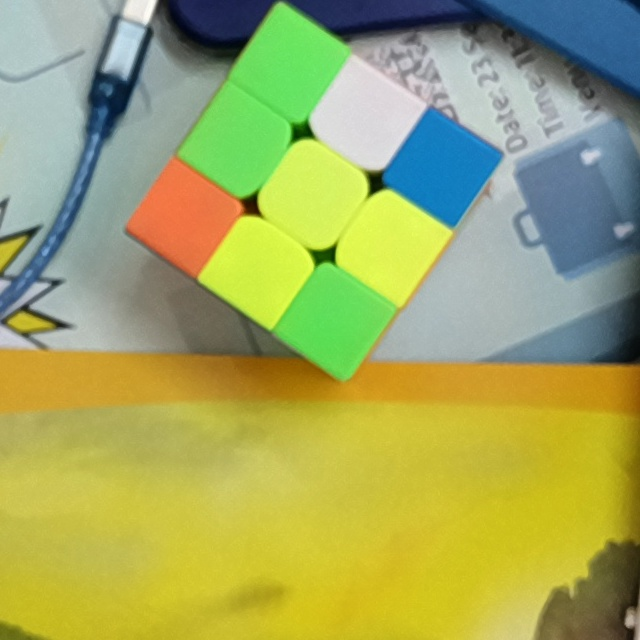tile: (226, 238, 292, 297), (334, 88, 397, 149), (210, 111, 271, 173), (302, 293, 367, 351), (258, 35, 324, 91), (408, 141, 472, 198), (360, 216, 420, 275), (153, 190, 215, 247), (282, 164, 342, 222)
